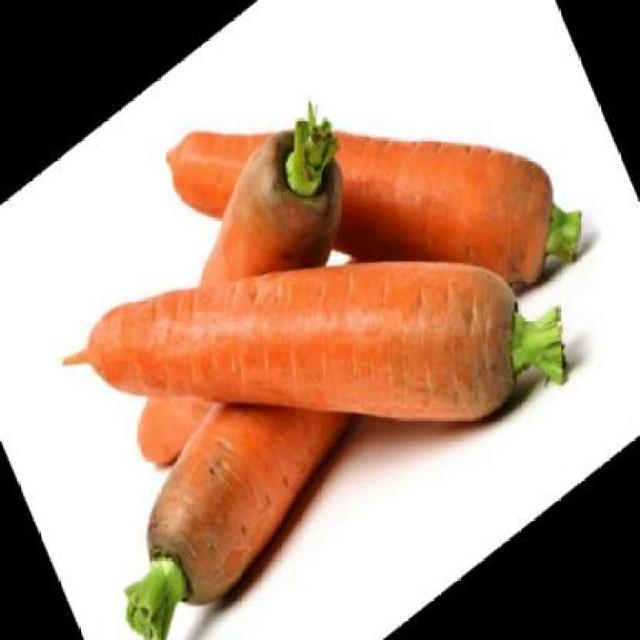carrot: (78, 63, 550, 639), (161, 0, 581, 477), (74, 95, 398, 478), (118, 323, 382, 631)
